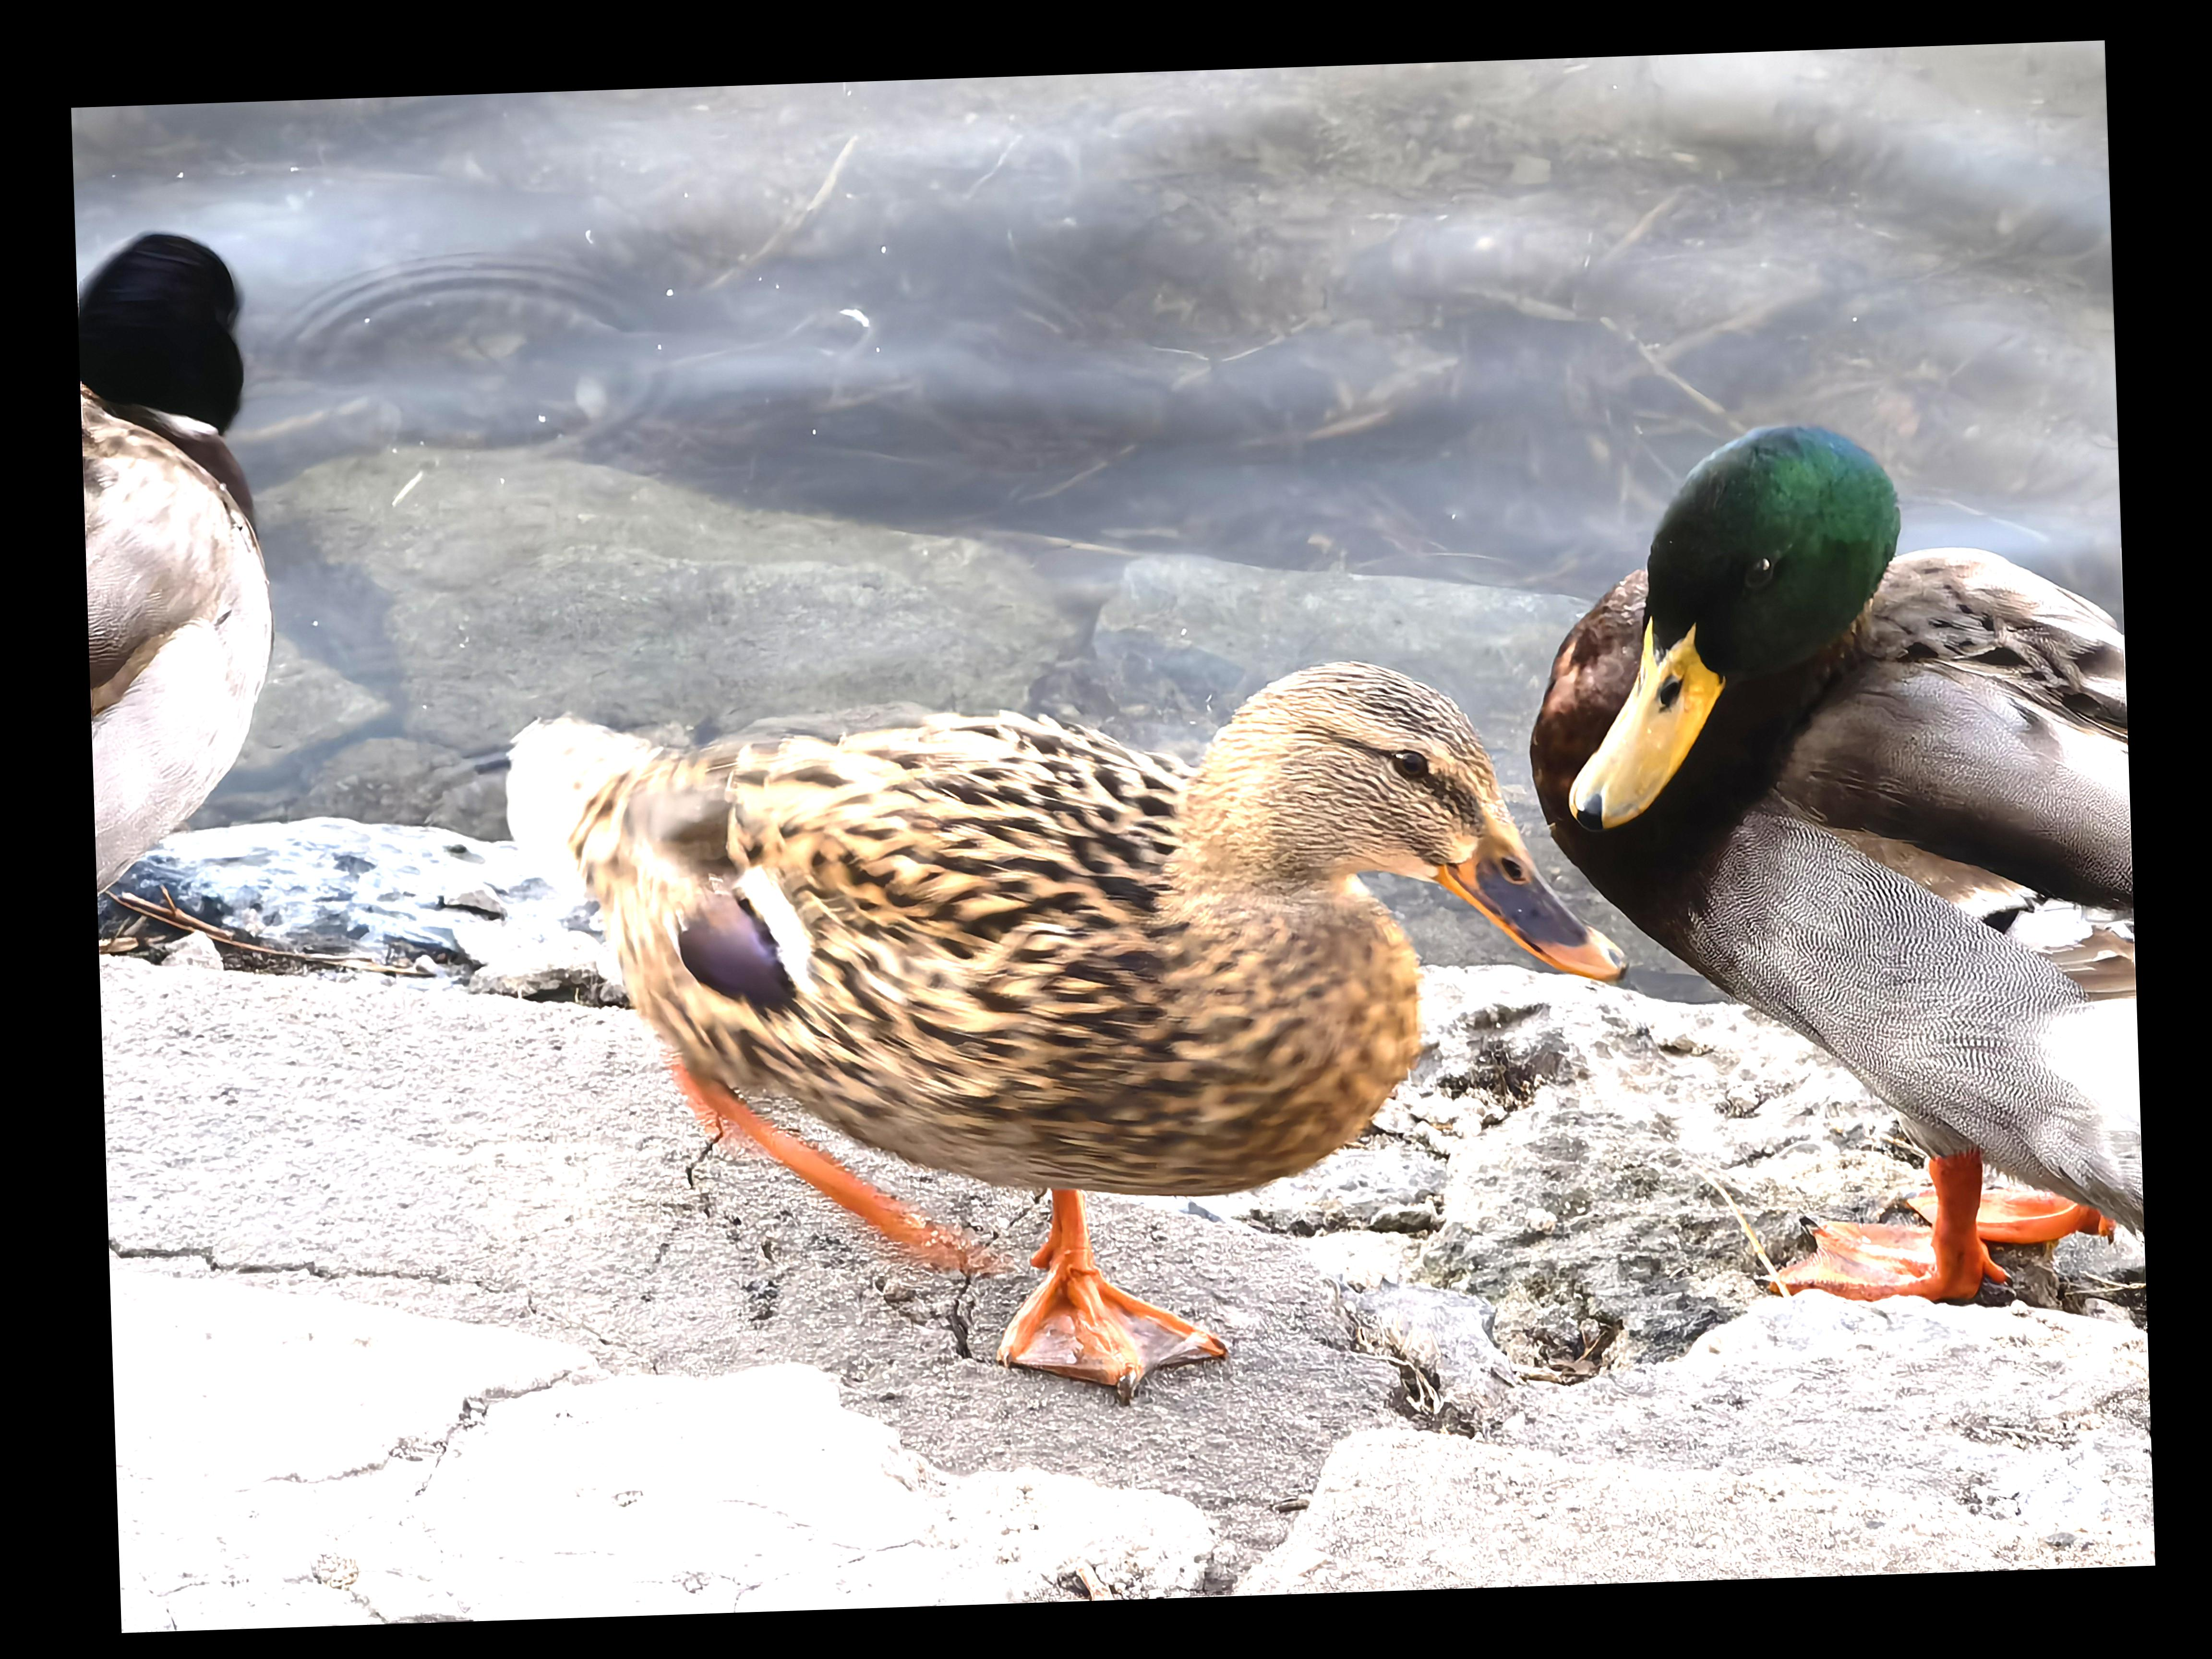duck: (474, 538, 1649, 1391), (1507, 343, 2146, 1324), (75, 200, 347, 896)
